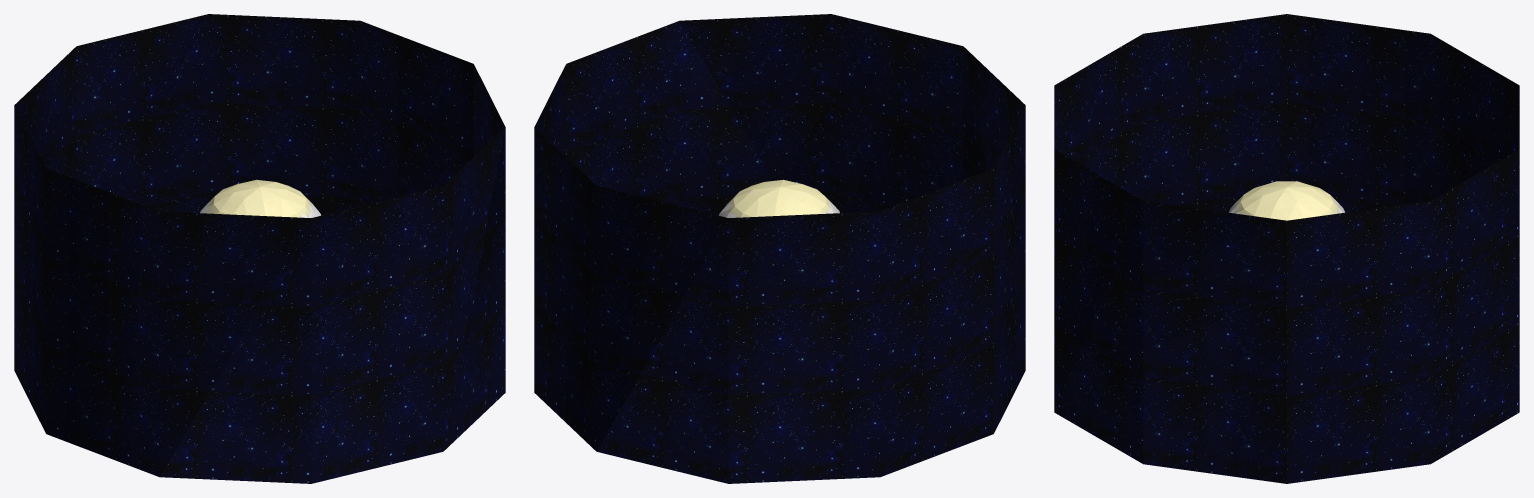
The model's file is Chao Lobby (Version 3 - Dark).obj.
3 renders of one model, left to right at view 1: azimuth 30°, elevation 25°; view 2: azimuth 150°, elevation 25°; view 3: azimuth 270°, elevation 25°, orthographic.
Visible parts, largest first — view 1: Mesh_0166; view 2: Mesh_0166; view 3: Mesh_0166.
Boxes of the visible parts, x1=… form: Mesh_0166: x1=14, y1=14, x2=505, y2=483; Mesh_0166: x1=534, y1=14, x2=1025, y2=483; Mesh_0166: x1=1054, y1=14, x2=1519, y2=483.
Bounding box in the file's own units: 120 × 71.29 × 114.
Materials: 17 (17 with a texture image).
